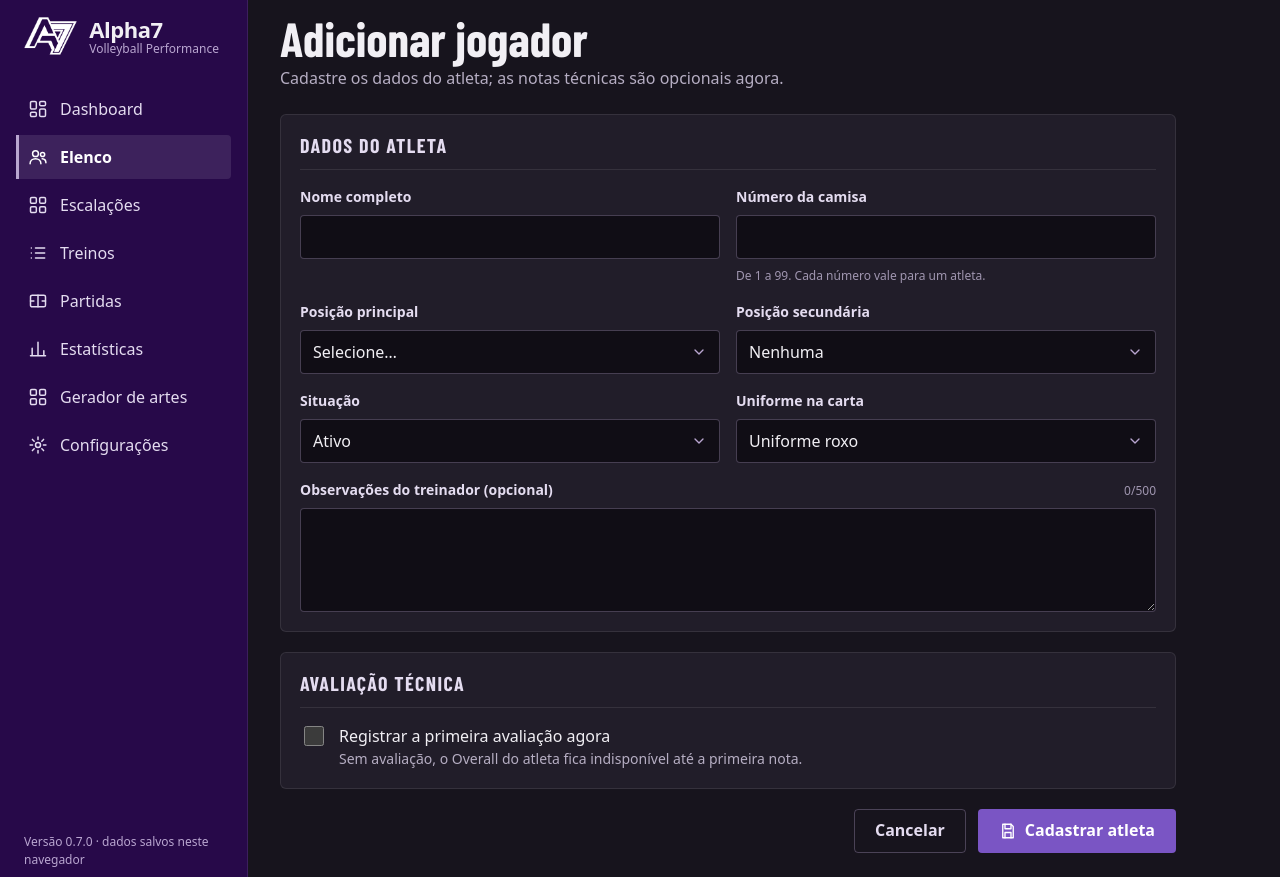
Test: Cadastro de jogador › o erro de um campo some quando a pessoa volta a digitar nele
(page scrolled)
Click the button "Cadastrar atleta": click(1077, 831) 978,809 -> 1176,853
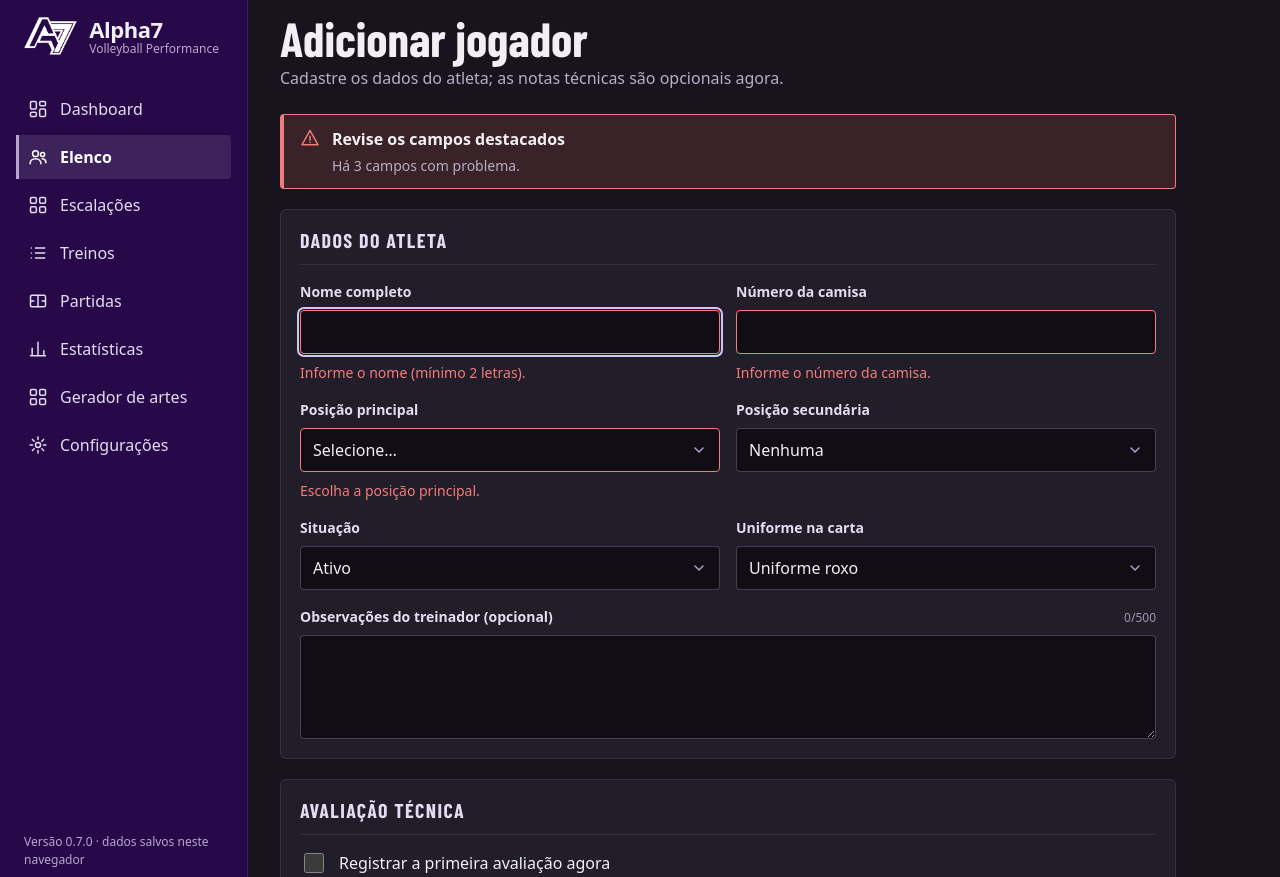
In the field labelled "Nome completo": (510, 332) 300,310 -> 720,354, type "Ana"
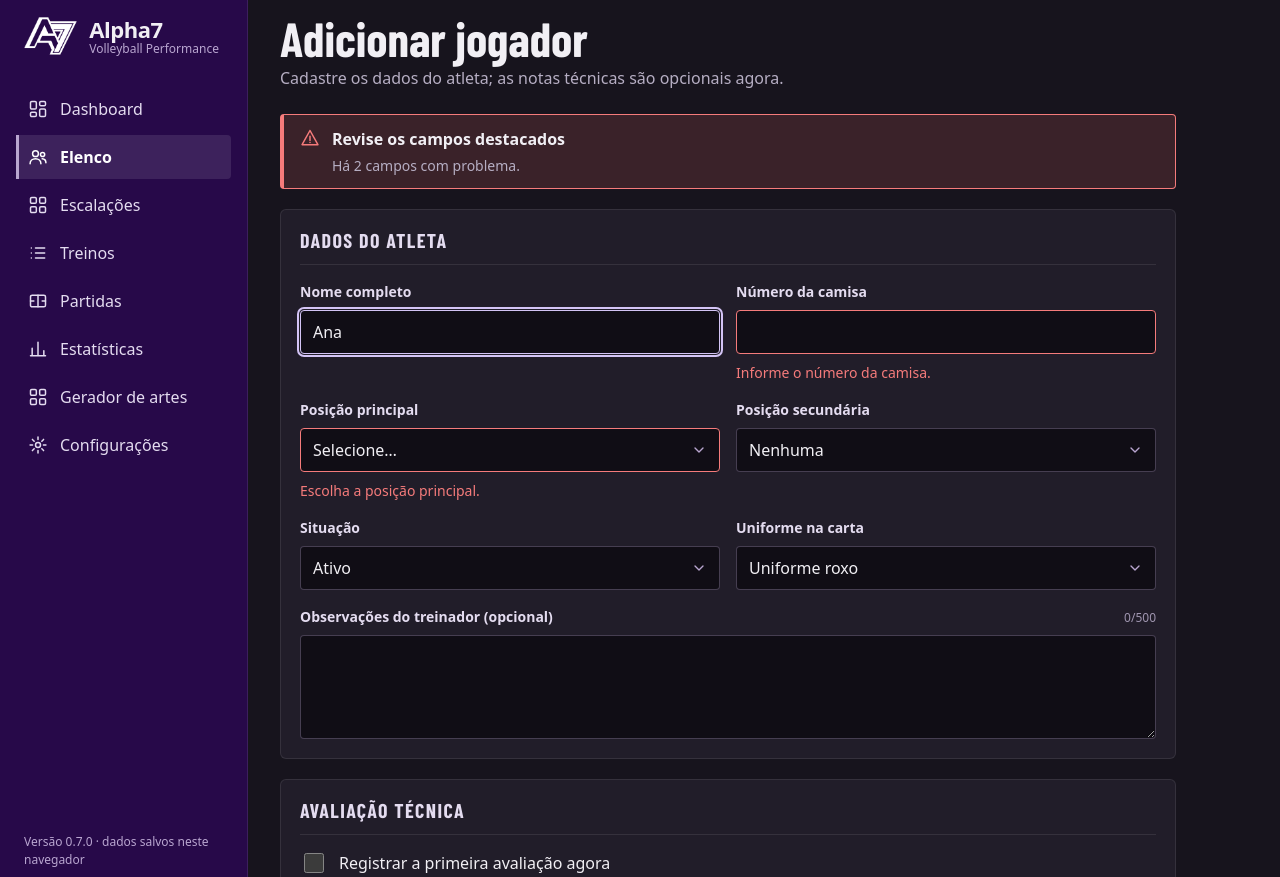
Now the text "Informe o nome" is gone
